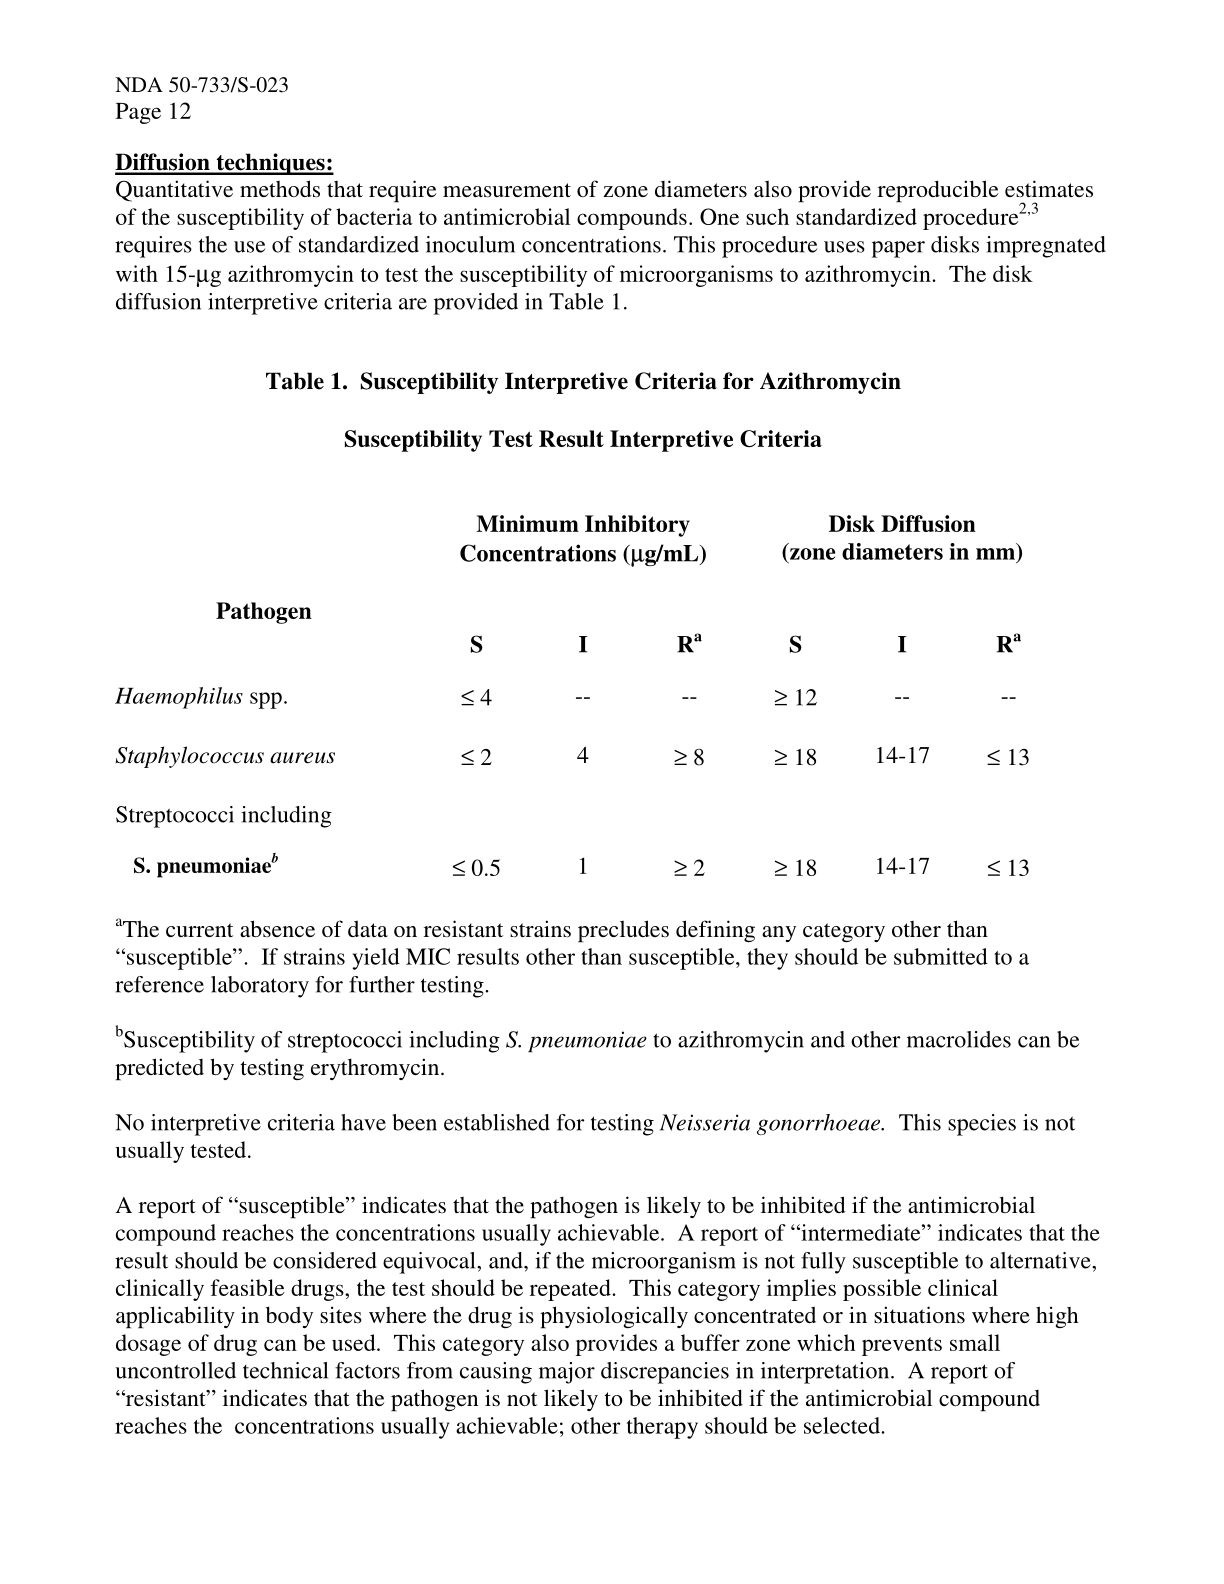nolines: (114, 510, 1032, 882)
